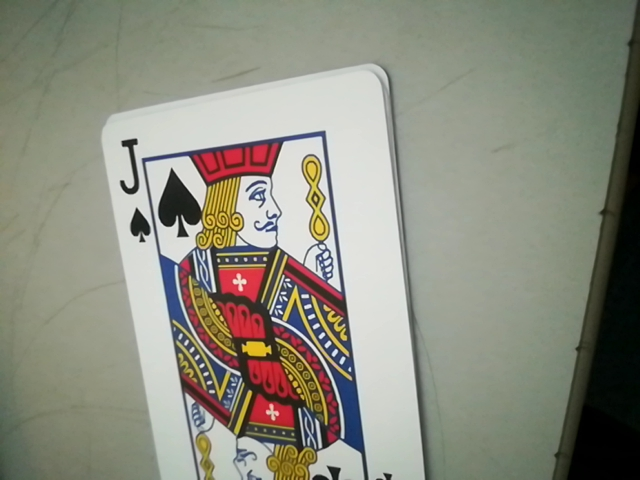ht j: (106, 130, 155, 247)
